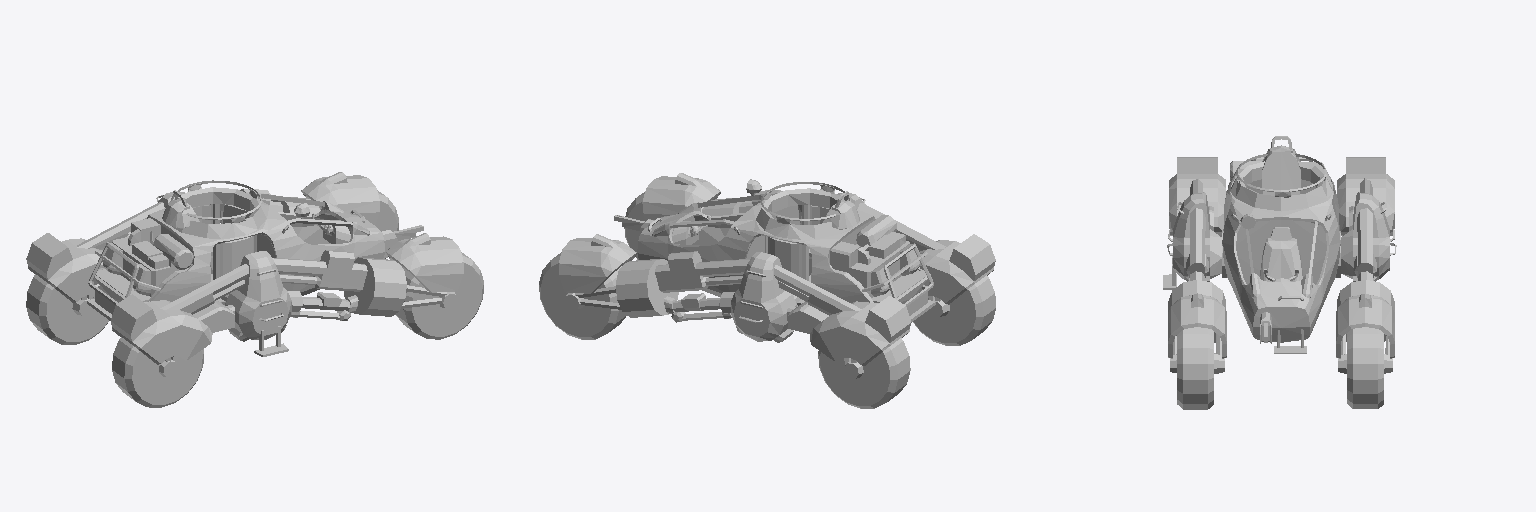
File: Veh_Runner_Static.obj
3 views of the same model, side by side, from view 1: azimuth 30°, elevation 25°; view 2: azimuth 150°, elevation 25°; view 3: azimuth 270°, elevation 25° (orthographic).
Parts seen in each view (by area): view 1: Veh_Runner_Static.mo_Veh_Runner_Static.md; view 2: Veh_Runner_Static.mo_Veh_Runner_Static.md; view 3: Veh_Runner_Static.mo_Veh_Runner_Static.md.
Boxes of the visible parts, <box> form: Veh_Runner_Static.mo_Veh_Runner_Static.md: <box>26,172,483,407</box>; Veh_Runner_Static.mo_Veh_Runner_Static.md: <box>539,173,995,408</box>; Veh_Runner_Static.mo_Veh_Runner_Static.md: <box>1163,136,1396,409</box>.
Size of the model in its own units: 467 by 202 by 262.